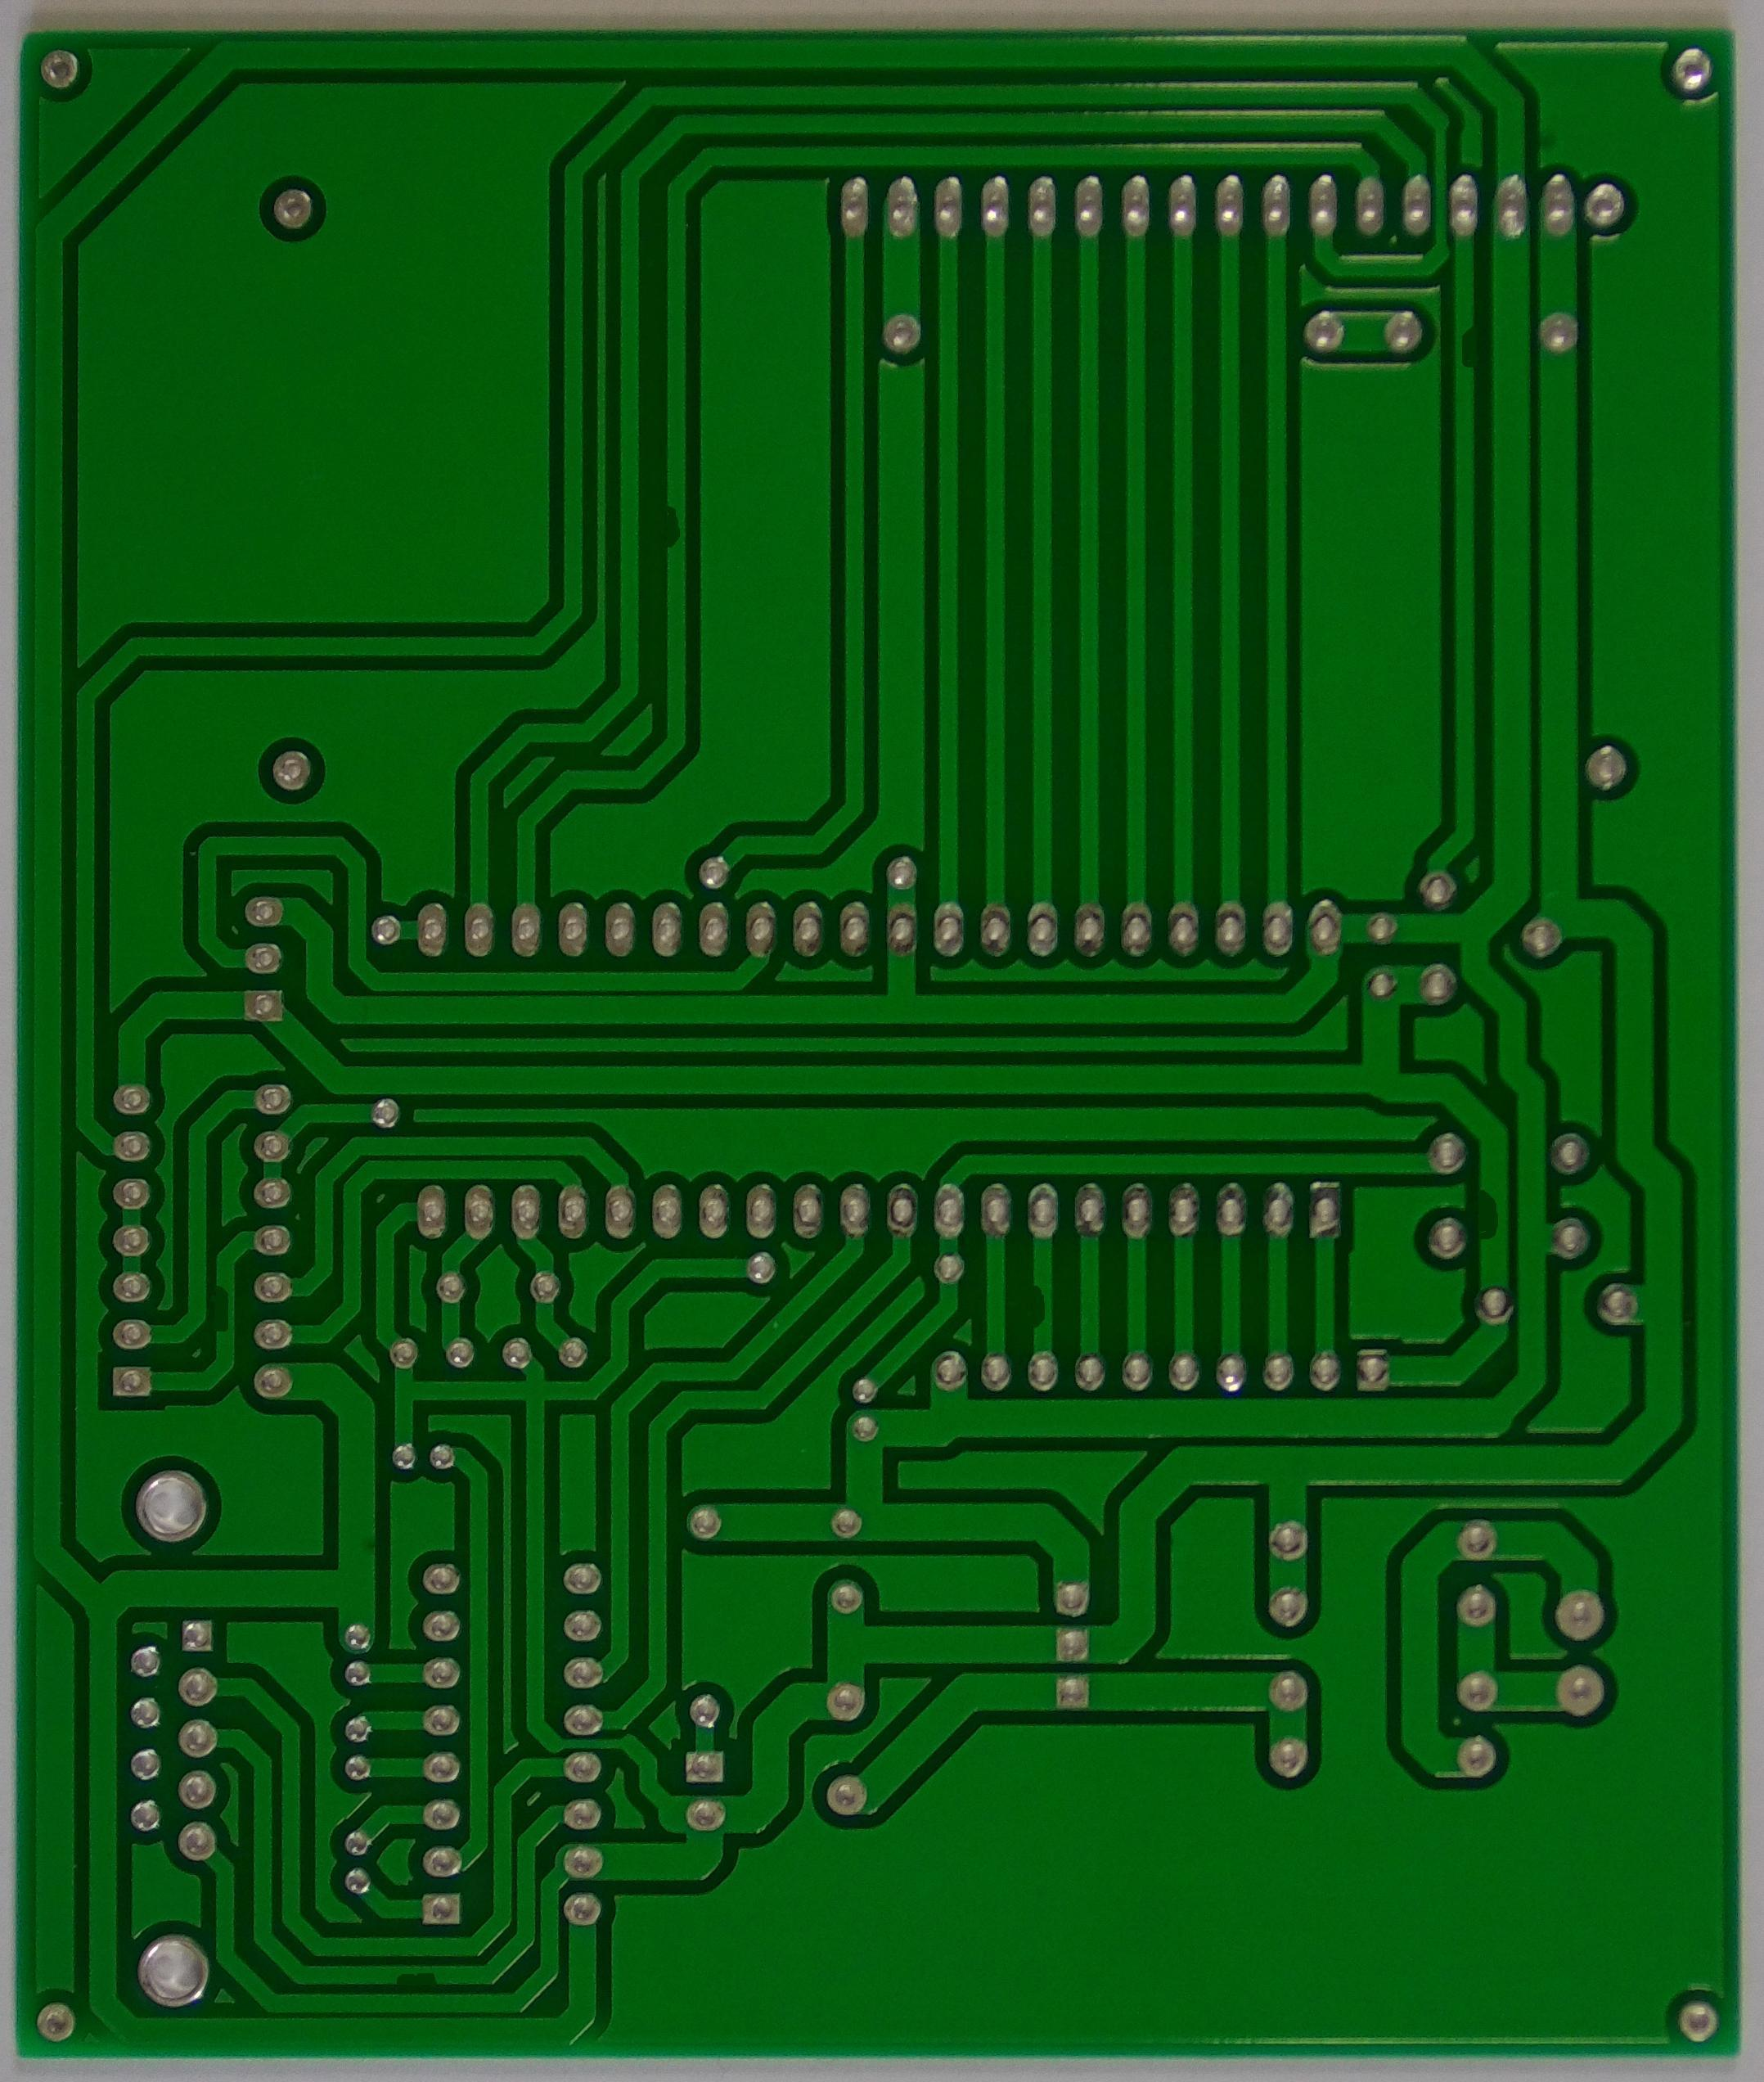mouse_bite: (1449, 1163, 1524, 1268), (1433, 299, 1510, 401), (630, 480, 696, 583), (180, 1266, 249, 1355), (373, 1949, 460, 2010), (1008, 1266, 1066, 1354)
